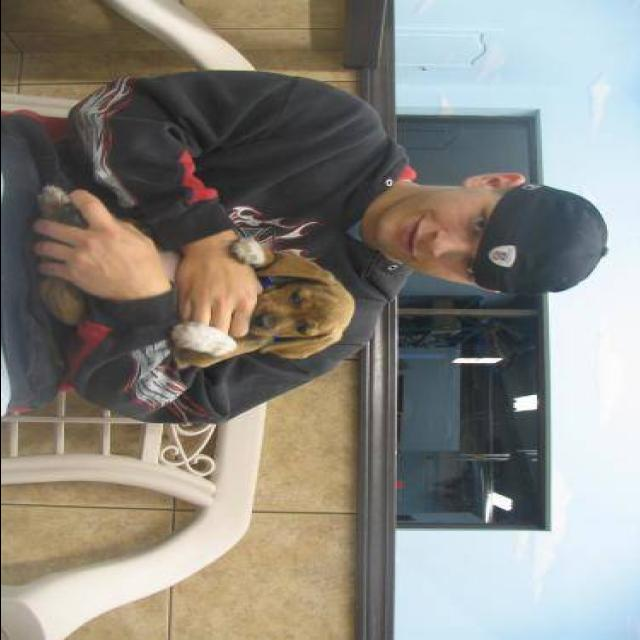dog: (159, 229, 373, 391)
